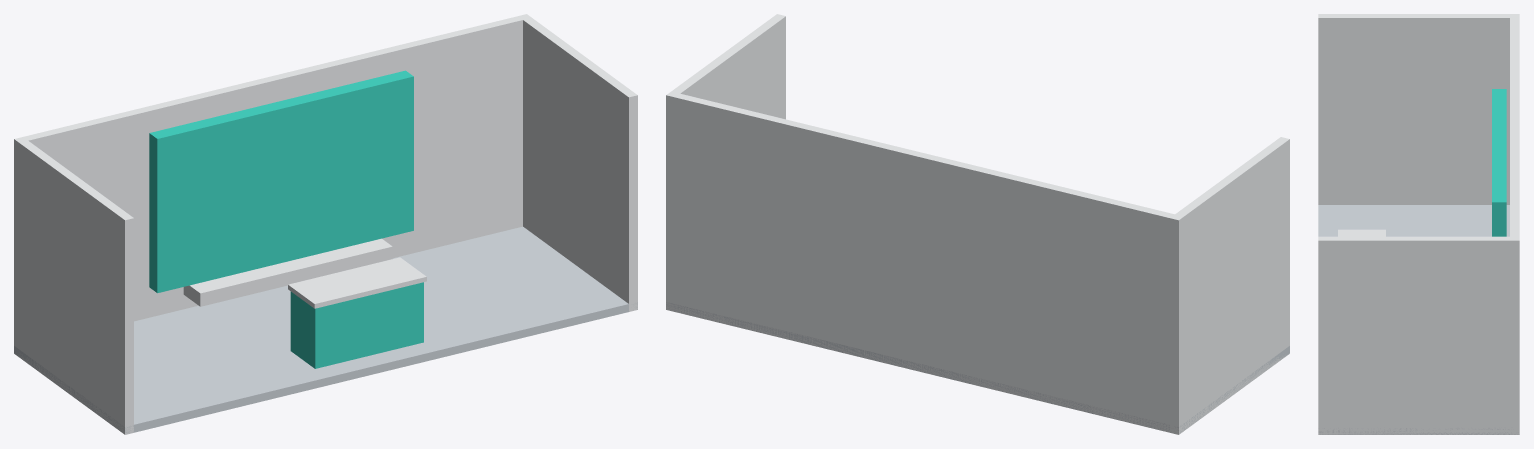
3 views of the same model, side by side, from view 1: azimuth 30°, elevation 25°; view 2: azimuth 150°, elevation 25°; view 3: azimuth 270°, elevation 25° (orthographic). The views are drawn at different scales.
Parts seen in each view (by area): view 1: Exhibition Booth Concept; view 2: Exhibition Booth Concept; view 3: Exhibition Booth Concept.
Part boxes in pixels (x1=…): Exhibition Booth Concept: x1=14, y1=14, x2=637, y2=434; Exhibition Booth Concept: x1=666, y1=14, x2=1289, y2=434; Exhibition Booth Concept: x1=1318, y1=14, x2=1519, y2=434.
Size of the model in its own units: 8 by 3.2 by 3.
